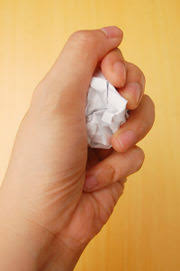crumpled paper: (78, 73, 130, 150)
